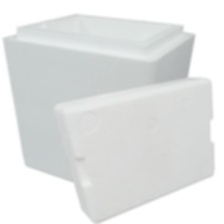foam_box: (0, 10, 220, 224)
